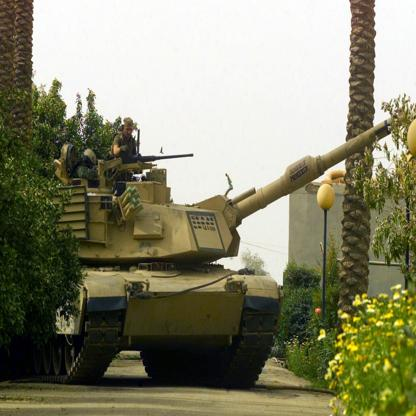Tank: (46, 119, 397, 382)
